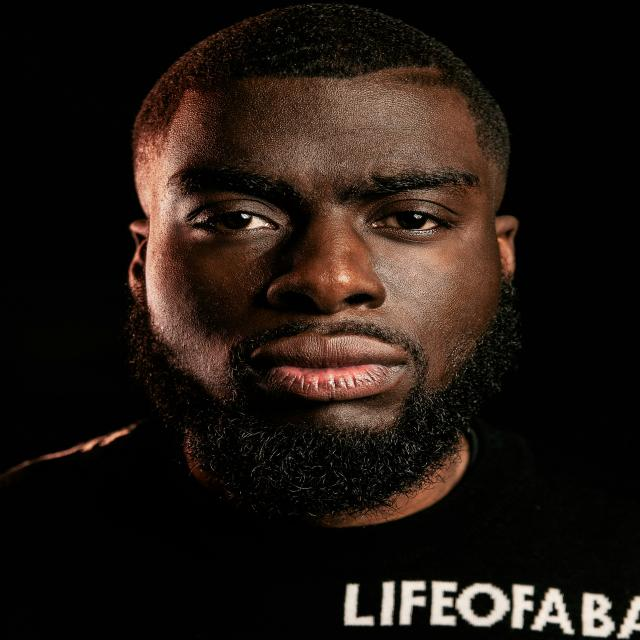sem_oculos: (89, 160, 558, 258)
